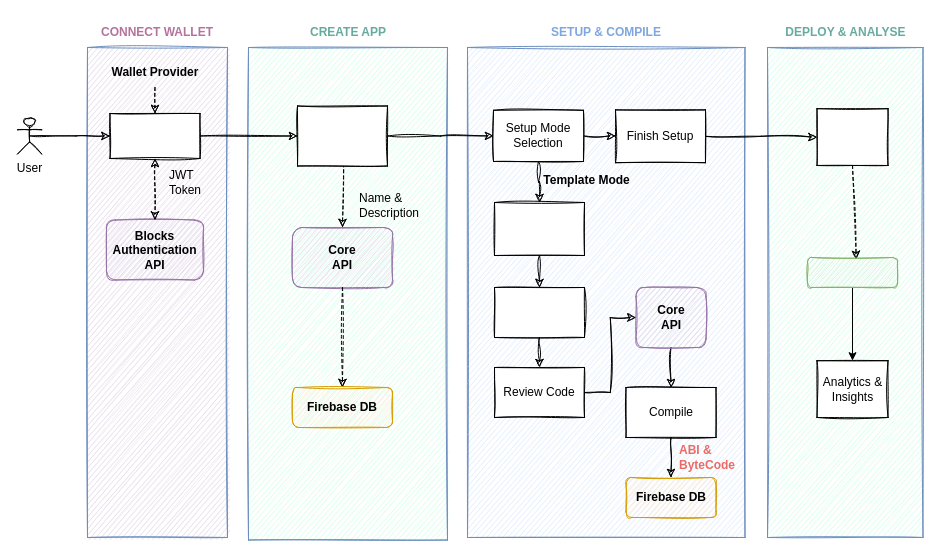
Some shapes in this 941 by 557 pixel diagram are drawn without their labels. The centre of each missing label's shape, as x and y in pixels:
"Create New App" goes at point (342, 135).
"Deploy" goes at point (852, 137).
"Enter Contract Details" goes at point (539, 312).
"Pego Network" goes at point (852, 272).
"Select Template" goes at point (539, 229).
"Sign In" goes at point (154, 135).
